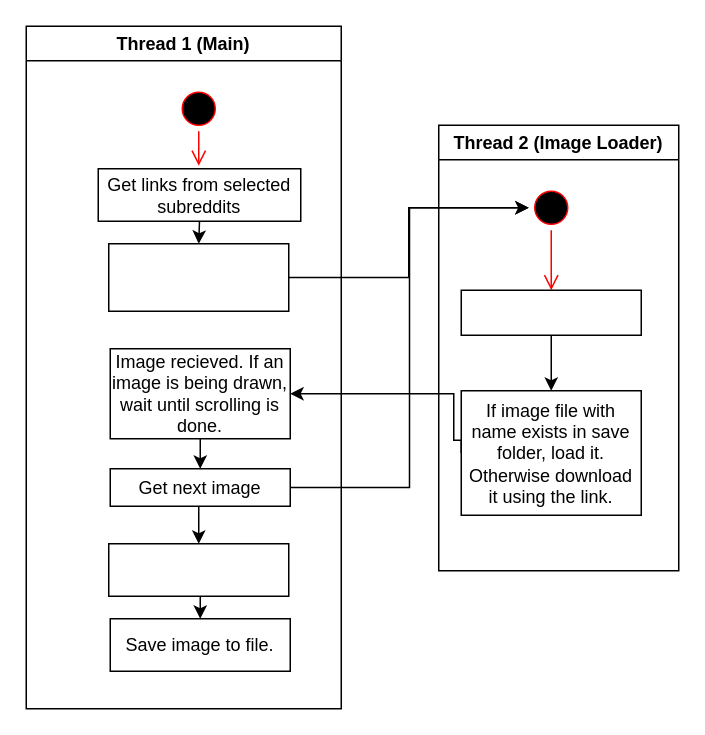
Image size: 705x735. Some labels were removed from this diagram. The shapes that lost their labels are listed below. From the top down, each one's box as (x1, y1, x2, y2) in pixels, then its label:
(107, 242, 289, 311): Get first image
(460, 289, 641, 335): Get next image name
(107, 542, 289, 596): Display image with scroll and scale type
